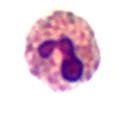monocyte: (20, 6, 104, 93)
